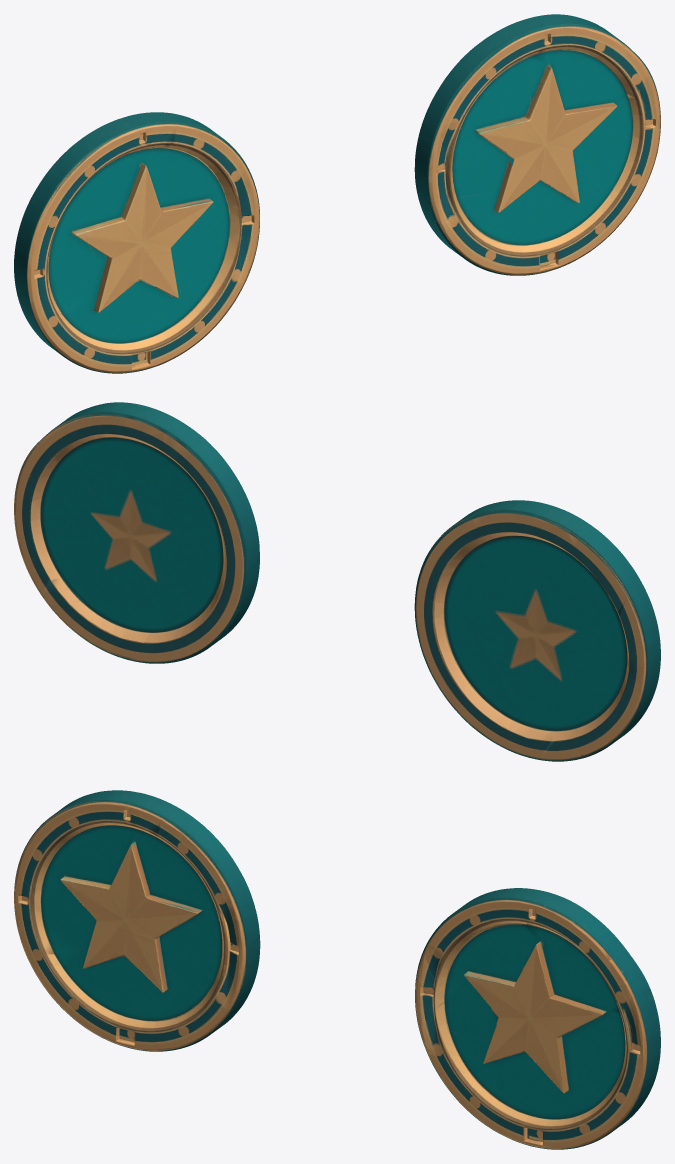
File: coin.3b34ed99.glb
The picture shows the model from 3 angles, top to bottom: view 1: azimuth 30°, elevation 25°; view 2: azimuth 150°, elevation 25°; view 3: azimuth 330°, elevation 25°; orthographic projection.
Visible parts, largest first — view 1: output_unwrapped; view 2: output_unwrapped; view 3: output_unwrapped.
Part boxes in pixels (x1,y1,x2,y2): output_unwrapped: (14, 14, 660, 373); output_unwrapped: (14, 402, 660, 761); output_unwrapped: (14, 790, 660, 1149).
Size of the model in its own units: 1.9 by 0.705 by 0.0814.
1 material, 1 textured.
